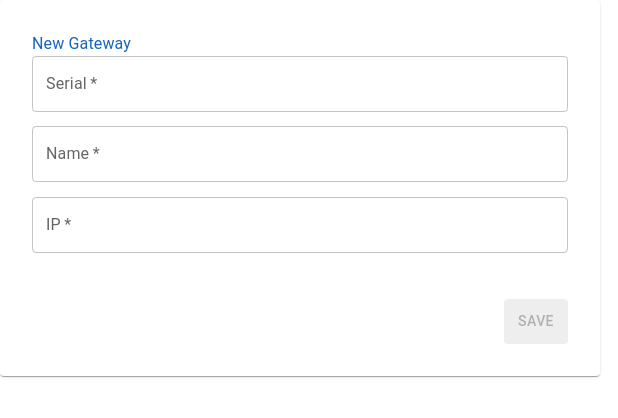
<NewGateway /> Load the NewGateway component and make sure everything is correct › displays serial validation errors
Type "this@wontgfgfgfgfgfgfgfgfgfgfgfgfgfgfgfgfgfgfgfgfgfgfgfgfgfgfgfgfgfg" into the field labelled "Serial *" at (300, 84), box 32,56 -> 568,112
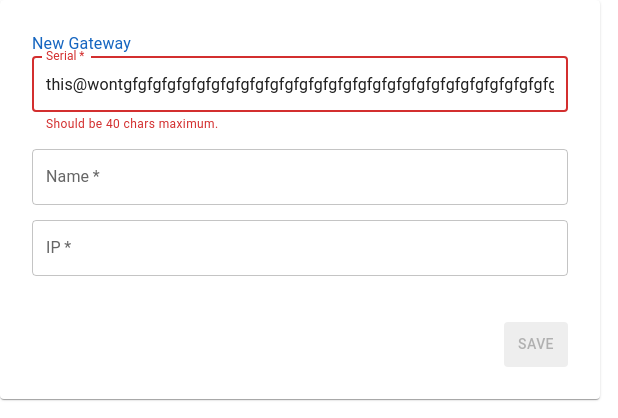
Result: the text "Should be 40 chars maximum." is shown at 46,117 -> 219,131
Clear the field labelled "Serial *" at (300, 84), box 32,56 -> 568,112
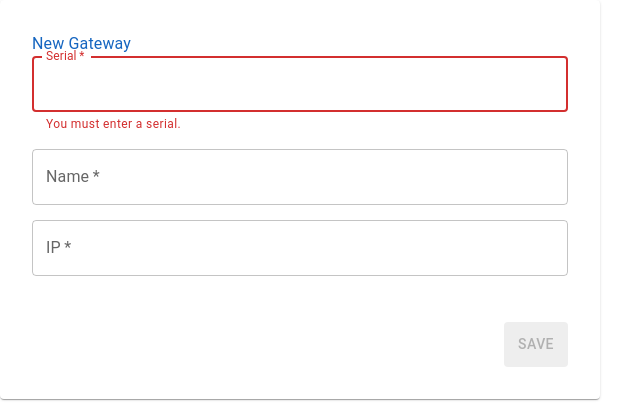
Result: the text "You must enter a serial." is shown at 46,117 -> 181,131
